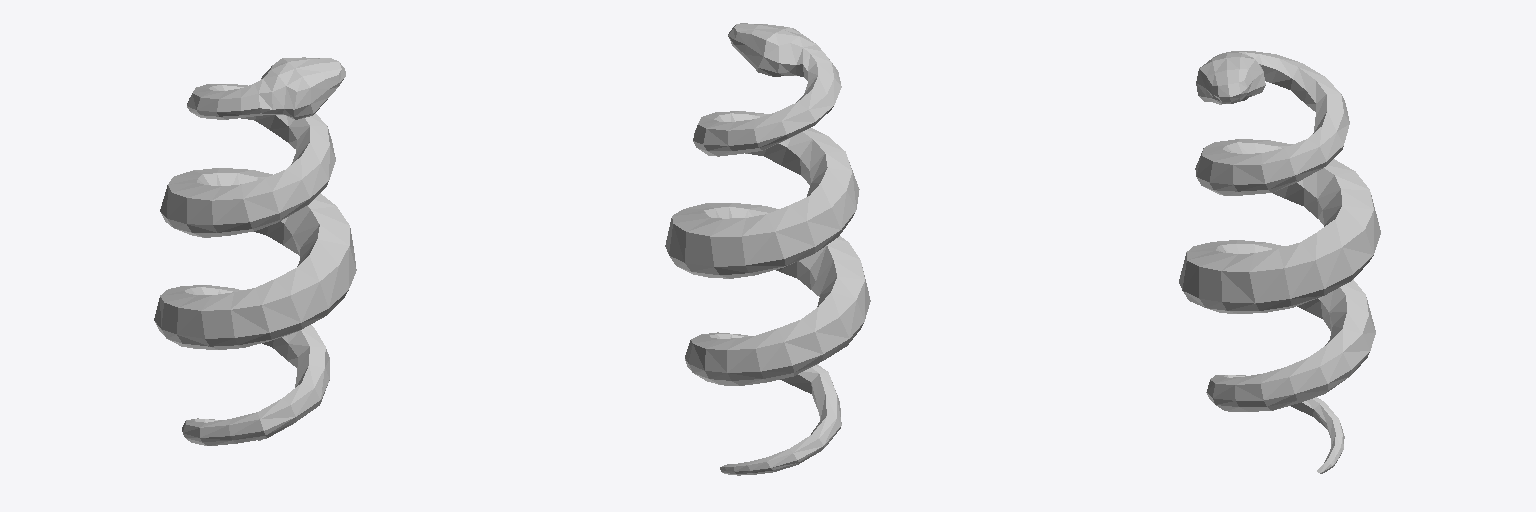
The model's file is meca_snake_900tri.obj.
The picture shows the model from 3 angles: view 1: azimuth 30°, elevation 25°; view 2: azimuth 150°, elevation 25°; view 3: azimuth 270°, elevation 25°; orthographic projection.
Parts seen in each view (by area): view 1: meca_snake_900tri.obj; view 2: meca_snake_900tri.obj; view 3: meca_snake_900tri.obj.
Part boxes in pixels (x1,y1,x2,y2): meca_snake_900tri.obj: (154, 57, 356, 445); meca_snake_900tri.obj: (665, 23, 870, 475); meca_snake_900tri.obj: (1179, 51, 1380, 473).
Size of the model in its own units: 20.67 by 45.99 by 20.53.